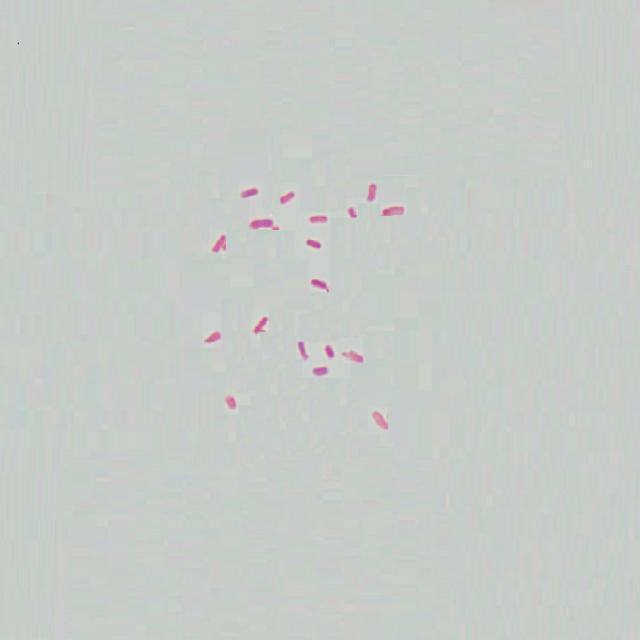E-coli: (302, 235, 331, 258), (370, 403, 390, 436), (307, 275, 332, 299), (273, 185, 295, 212), (250, 310, 270, 338), (340, 344, 364, 366), (248, 216, 277, 234), (221, 392, 240, 419), (207, 232, 229, 255), (381, 204, 407, 223), (362, 177, 380, 204), (203, 328, 224, 351), (290, 336, 309, 360), (309, 362, 330, 382), (321, 338, 337, 364), (308, 210, 330, 228), (343, 199, 359, 220), (240, 185, 258, 203)
